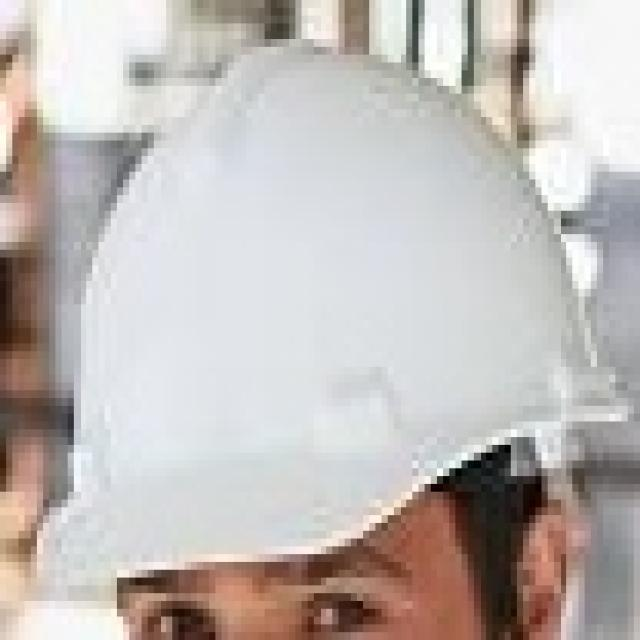helmet: (45, 48, 630, 586)
